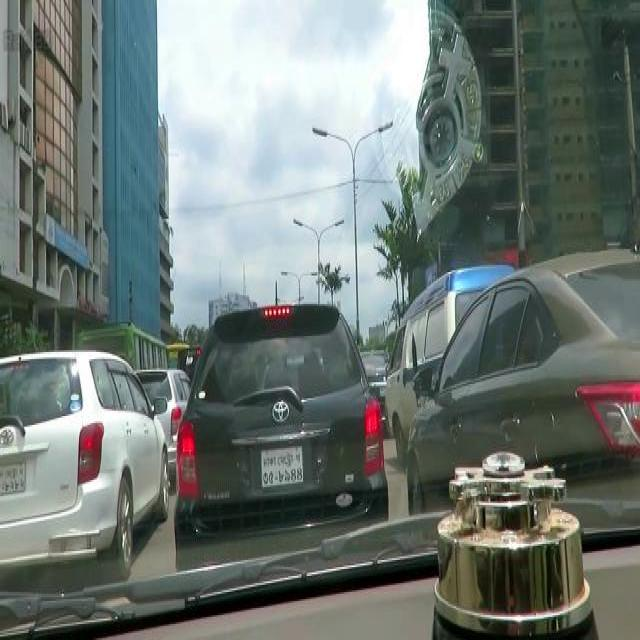vehicle: (403, 244, 640, 526), (172, 298, 390, 575), (1, 341, 172, 595), (373, 263, 511, 468), (135, 363, 196, 496), (78, 325, 172, 375)
